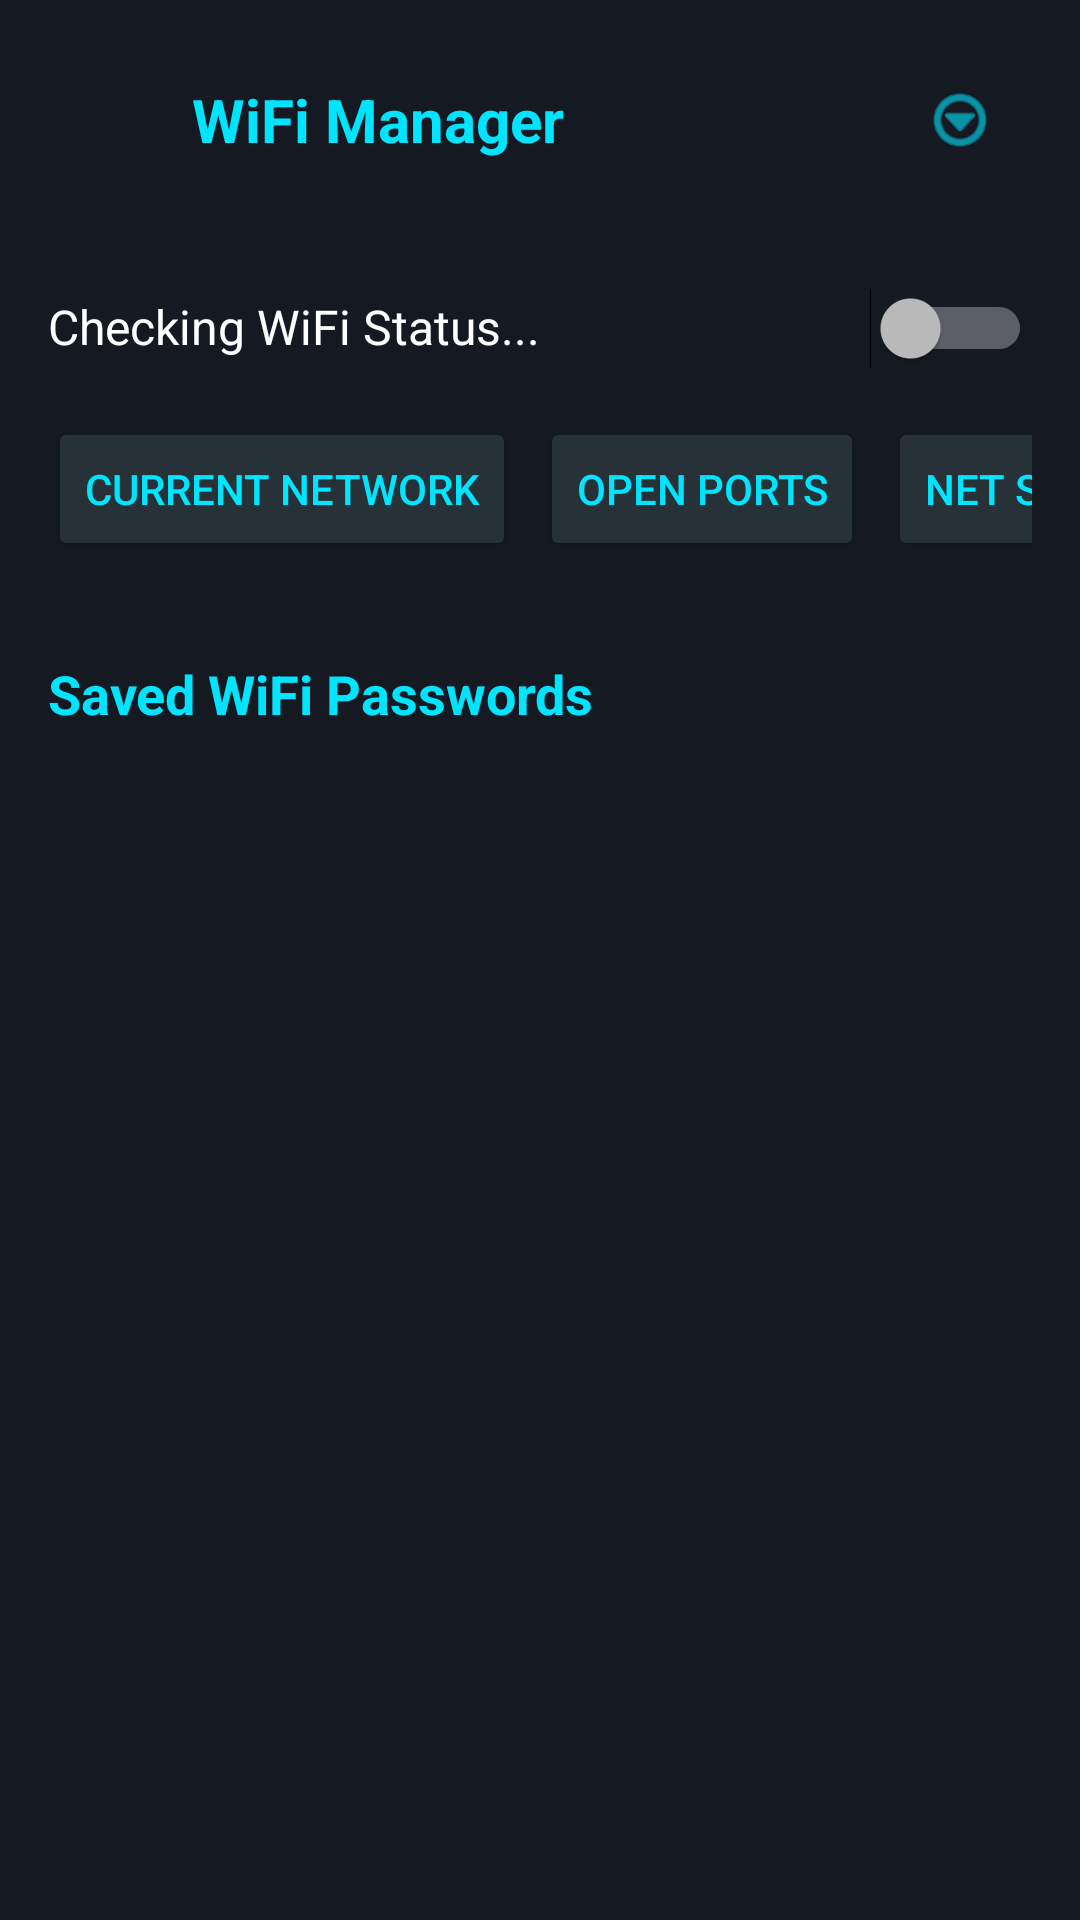

Icon bounding boxes for this 1080×1920 phone screenshot, format (x1, y1, x2, y2):
more: (933, 93, 987, 147)
